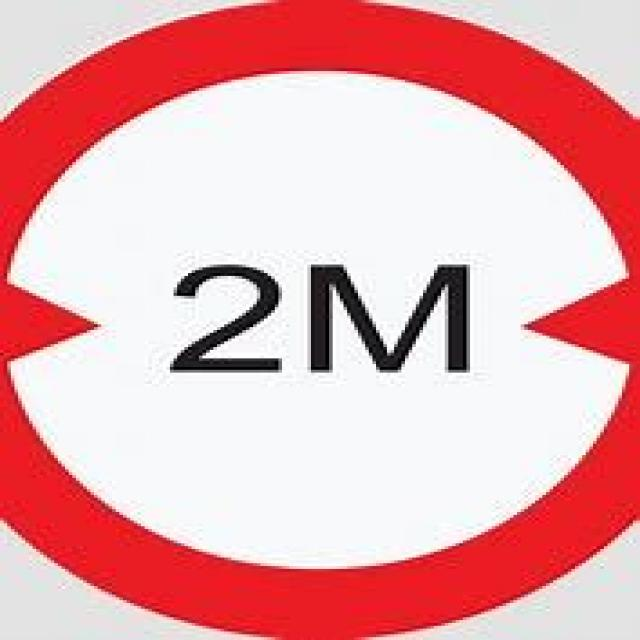WIDTH_LIMIT: (0, 0, 636, 637)
